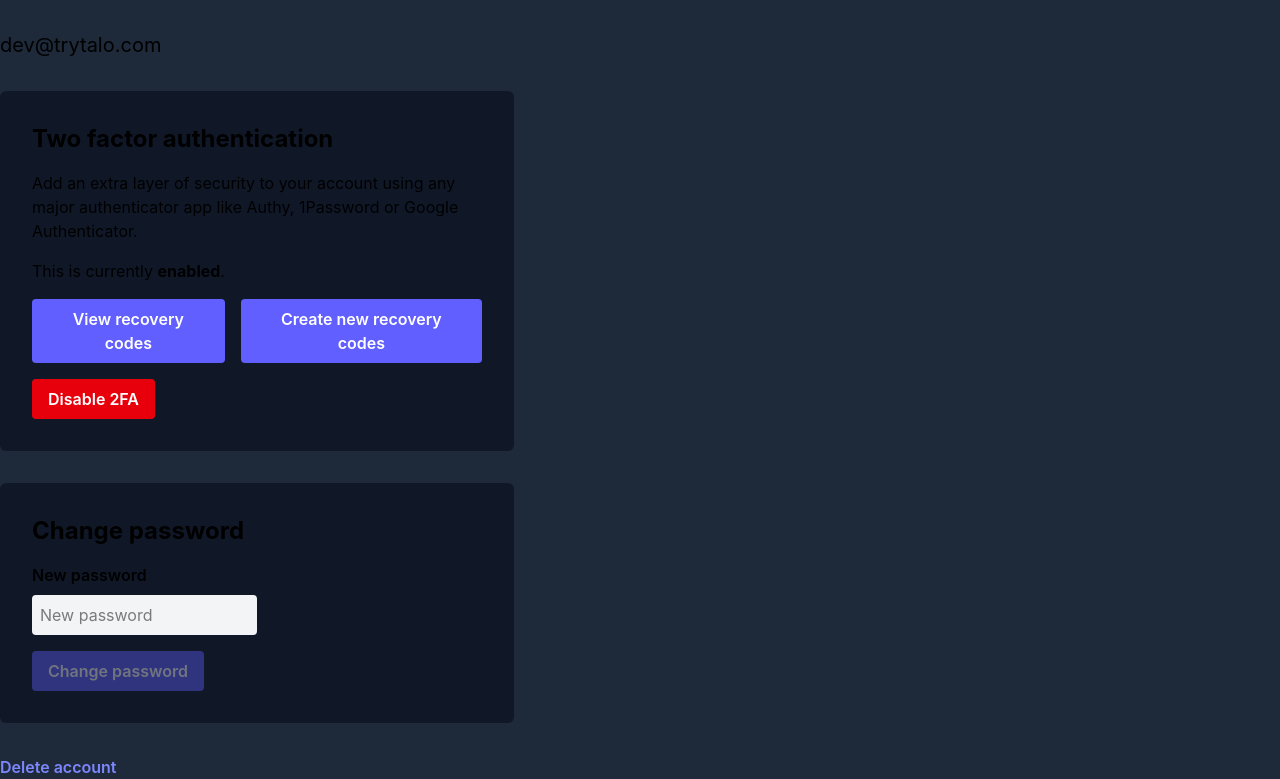
<Account /> › should not mention the organisation for non-owners
(page scrolled)
Click the button "Delete account" at (58, 767), box [0, 755, 116, 778]
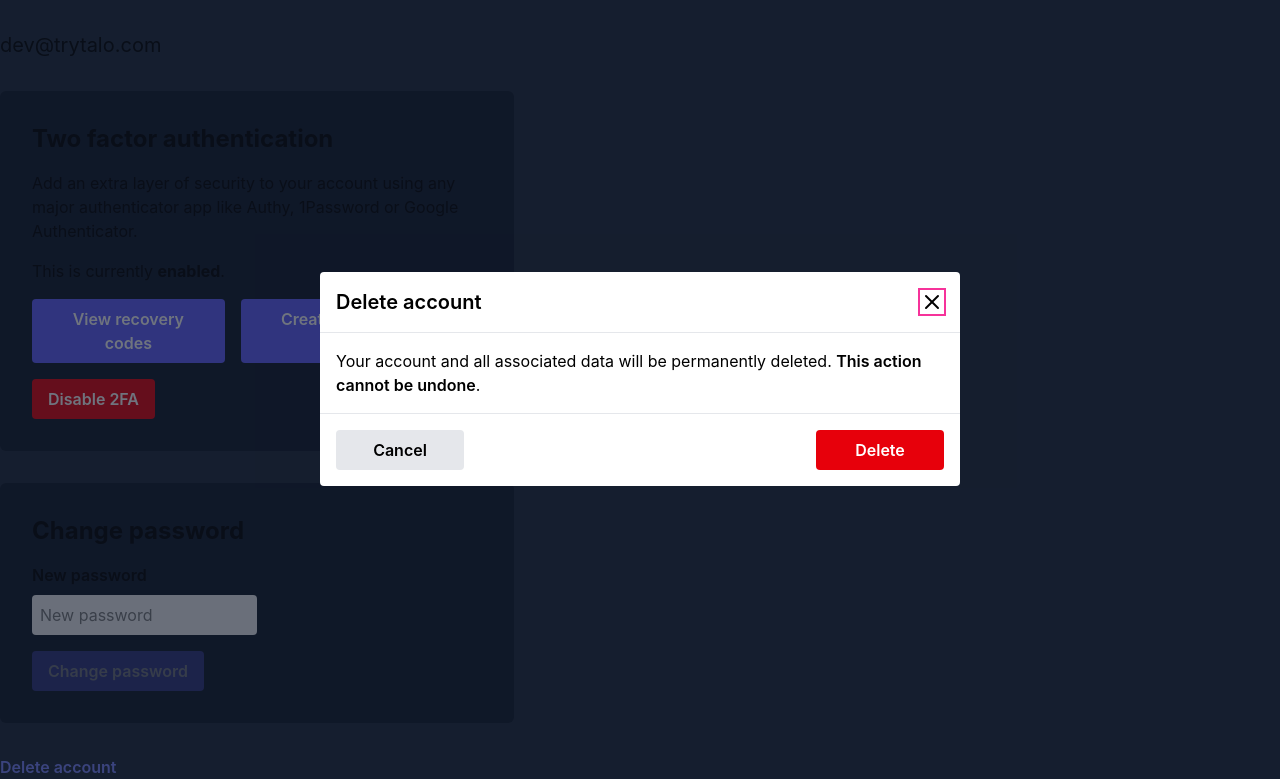
Expected: the text "Your account and all associated data will be permanently deleted. " is shown, [336, 351, 836, 371]
